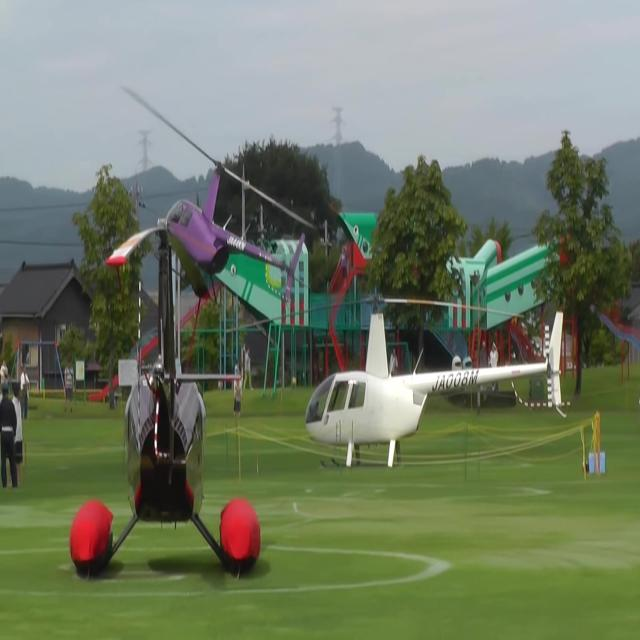CIV_HELO: (160, 162, 308, 306)
